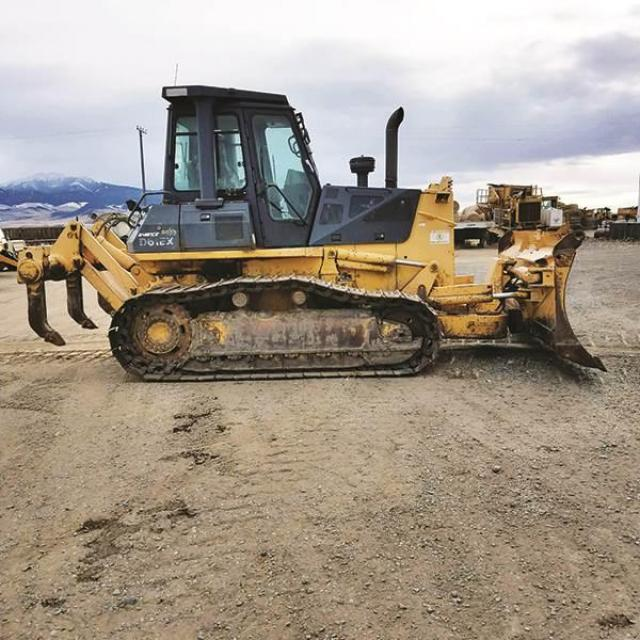Bulldozer: (4, 76, 626, 401)
